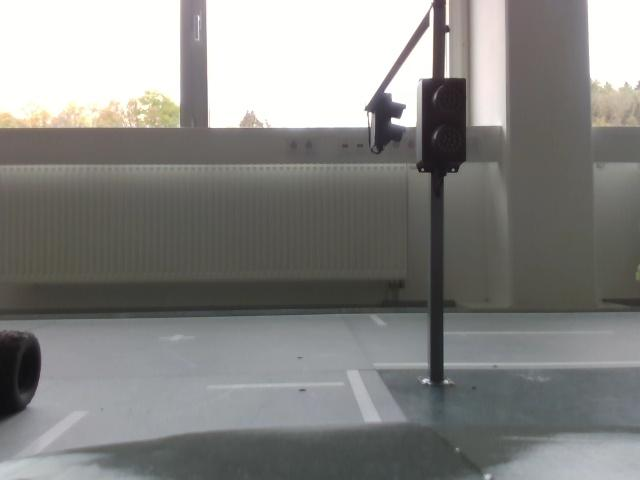traffic light: (419, 79, 469, 173), (365, 92, 407, 156)
